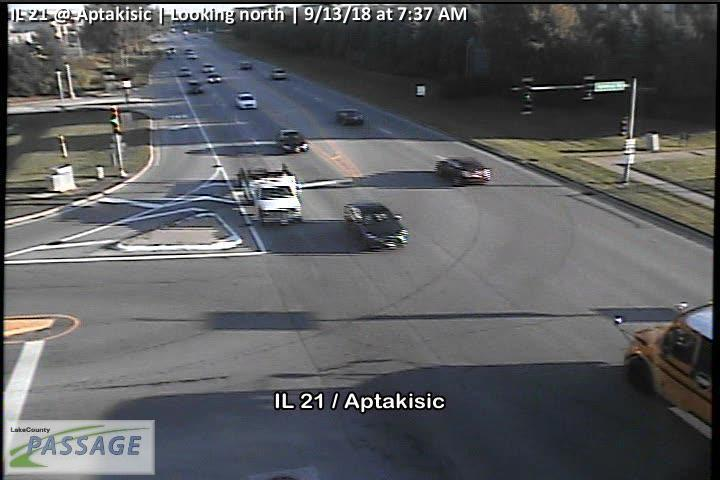Sedan: (343, 200, 409, 251), (434, 154, 491, 186), (274, 129, 309, 152), (335, 108, 365, 125), (233, 90, 257, 109), (271, 68, 286, 79), (206, 73, 221, 83)
Truck: (239, 163, 305, 224)
